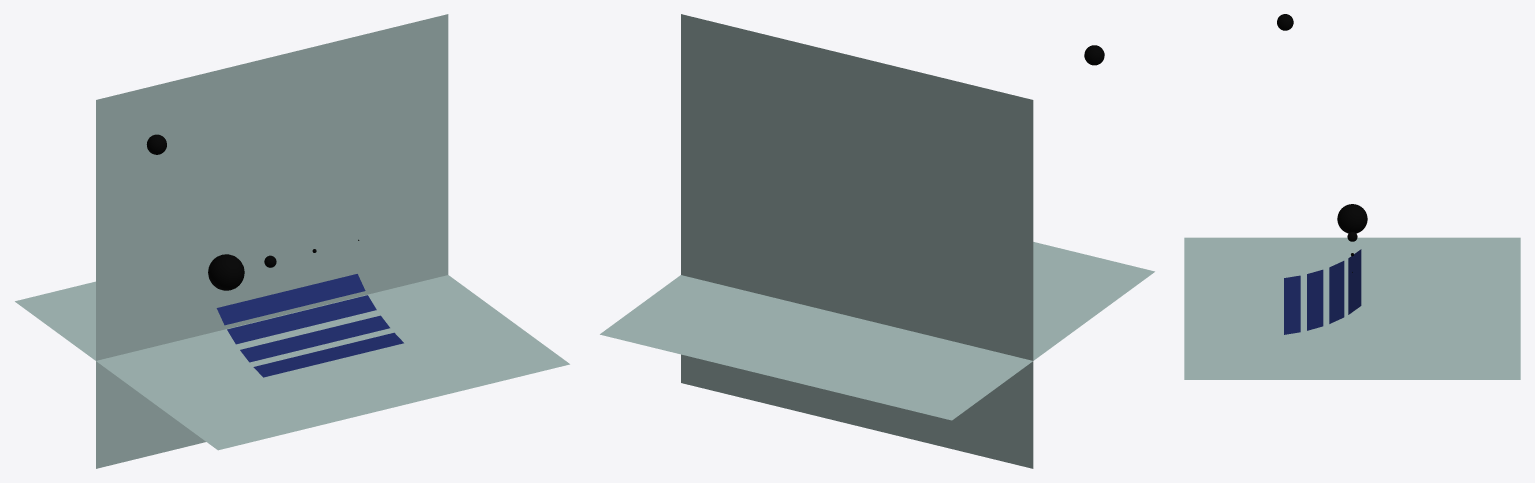
Rendered from veach-mis.obj.
The picture shows the model from 3 angles, left to right: view 1: azimuth 30°, elevation 25°; view 2: azimuth 150°, elevation 25°; view 3: azimuth 270°, elevation 25°; orthographic projection. The views are drawn at different scales.
Visible parts, largest first — view 1: BackGround2, BackGround1, Plane1, Plane2, Plane3, Plane4, Light4; view 2: BackGround2, BackGround1; view 3: BackGround1, Plane4, Plane3, Plane2, Plane1, Light4.
Boxes of the visible parts, x1,y1,x2,y2 form: BackGround2: (96, 14, 448, 468); BackGround1: (15, 275, 569, 450); Plane1: (216, 274, 365, 325); Plane2: (227, 295, 376, 344); Plane3: (240, 315, 389, 362); Plane4: (253, 332, 403, 377); Light4: (208, 254, 244, 290); BackGround2: (681, 14, 1033, 468); BackGround1: (600, 242, 1154, 420); BackGround1: (1184, 237, 1520, 379); Plane4: (1284, 275, 1300, 334); Plane3: (1307, 269, 1323, 330); Plane2: (1329, 261, 1344, 323); Plane1: (1348, 249, 1361, 314); Light4: (1337, 204, 1367, 233).
Size of the model in its own units: 20.5 by 20.5 by 20.
